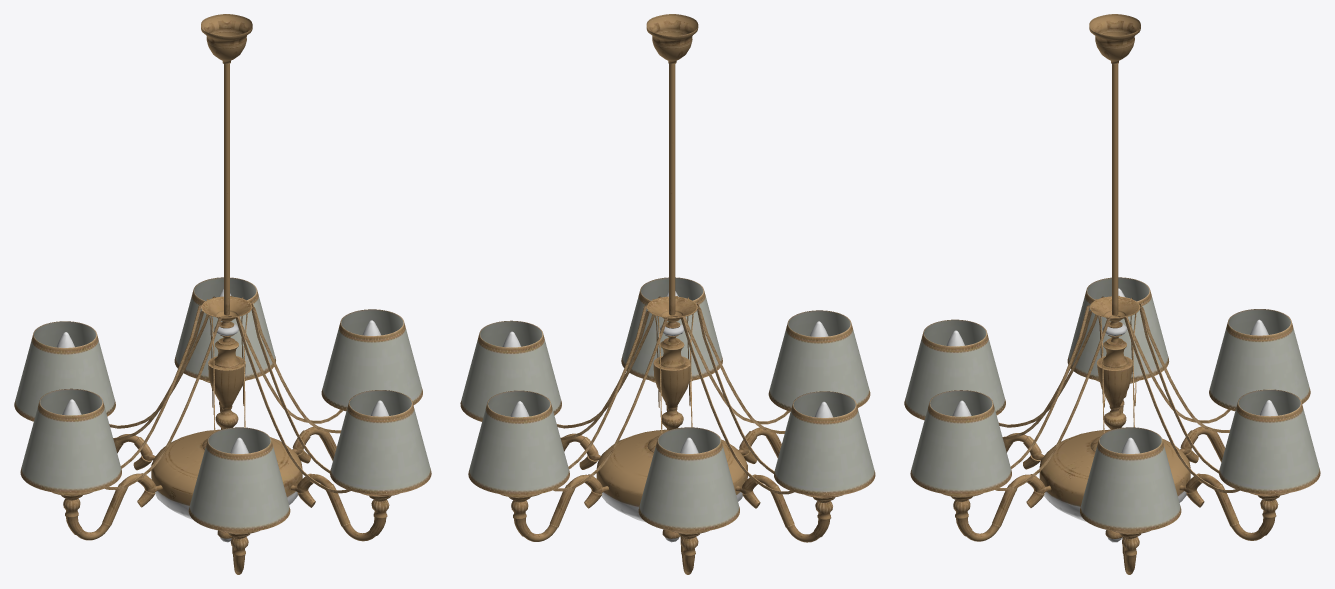
The model's file is ph-Chandelier_02.glb.
3 views of the same model, side by side, from view 1: azimuth 30°, elevation 25°; view 2: azimuth 150°, elevation 25°; view 3: azimuth 270°, elevation 25° (orthographic).
Parts seen in each view (by area): view 1: Chandelier_02; view 2: Chandelier_02; view 3: Chandelier_02.
Boxes of the visible parts, left/top/right/bottom form: Chandelier_02: left=14, top=14, right=431, bottom=574; Chandelier_02: left=460, top=14, right=875, bottom=574; Chandelier_02: left=904, top=14, right=1320, bottom=574.
Size of the model in its own units: 0.8006 by 1 by 0.73.
Materials: 2 (1 with a texture image).
